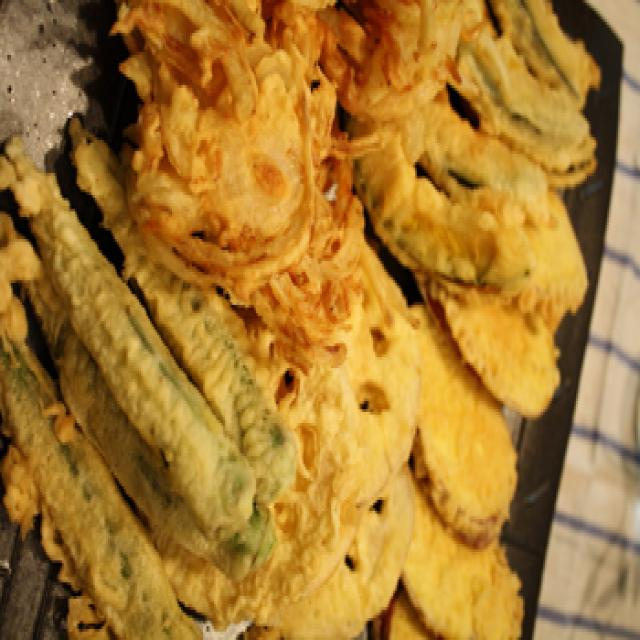蔬菜料理: (0, 44, 426, 640)
